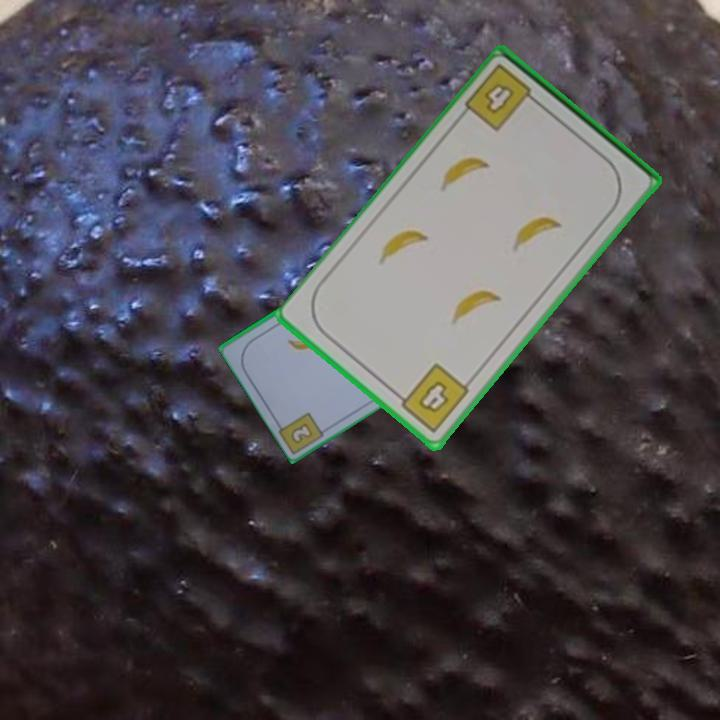2b: (287, 419, 316, 447)
4b: (391, 359, 473, 436), (461, 60, 544, 134)
